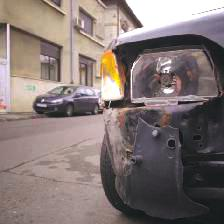head_lamp: (96, 39, 217, 212)
